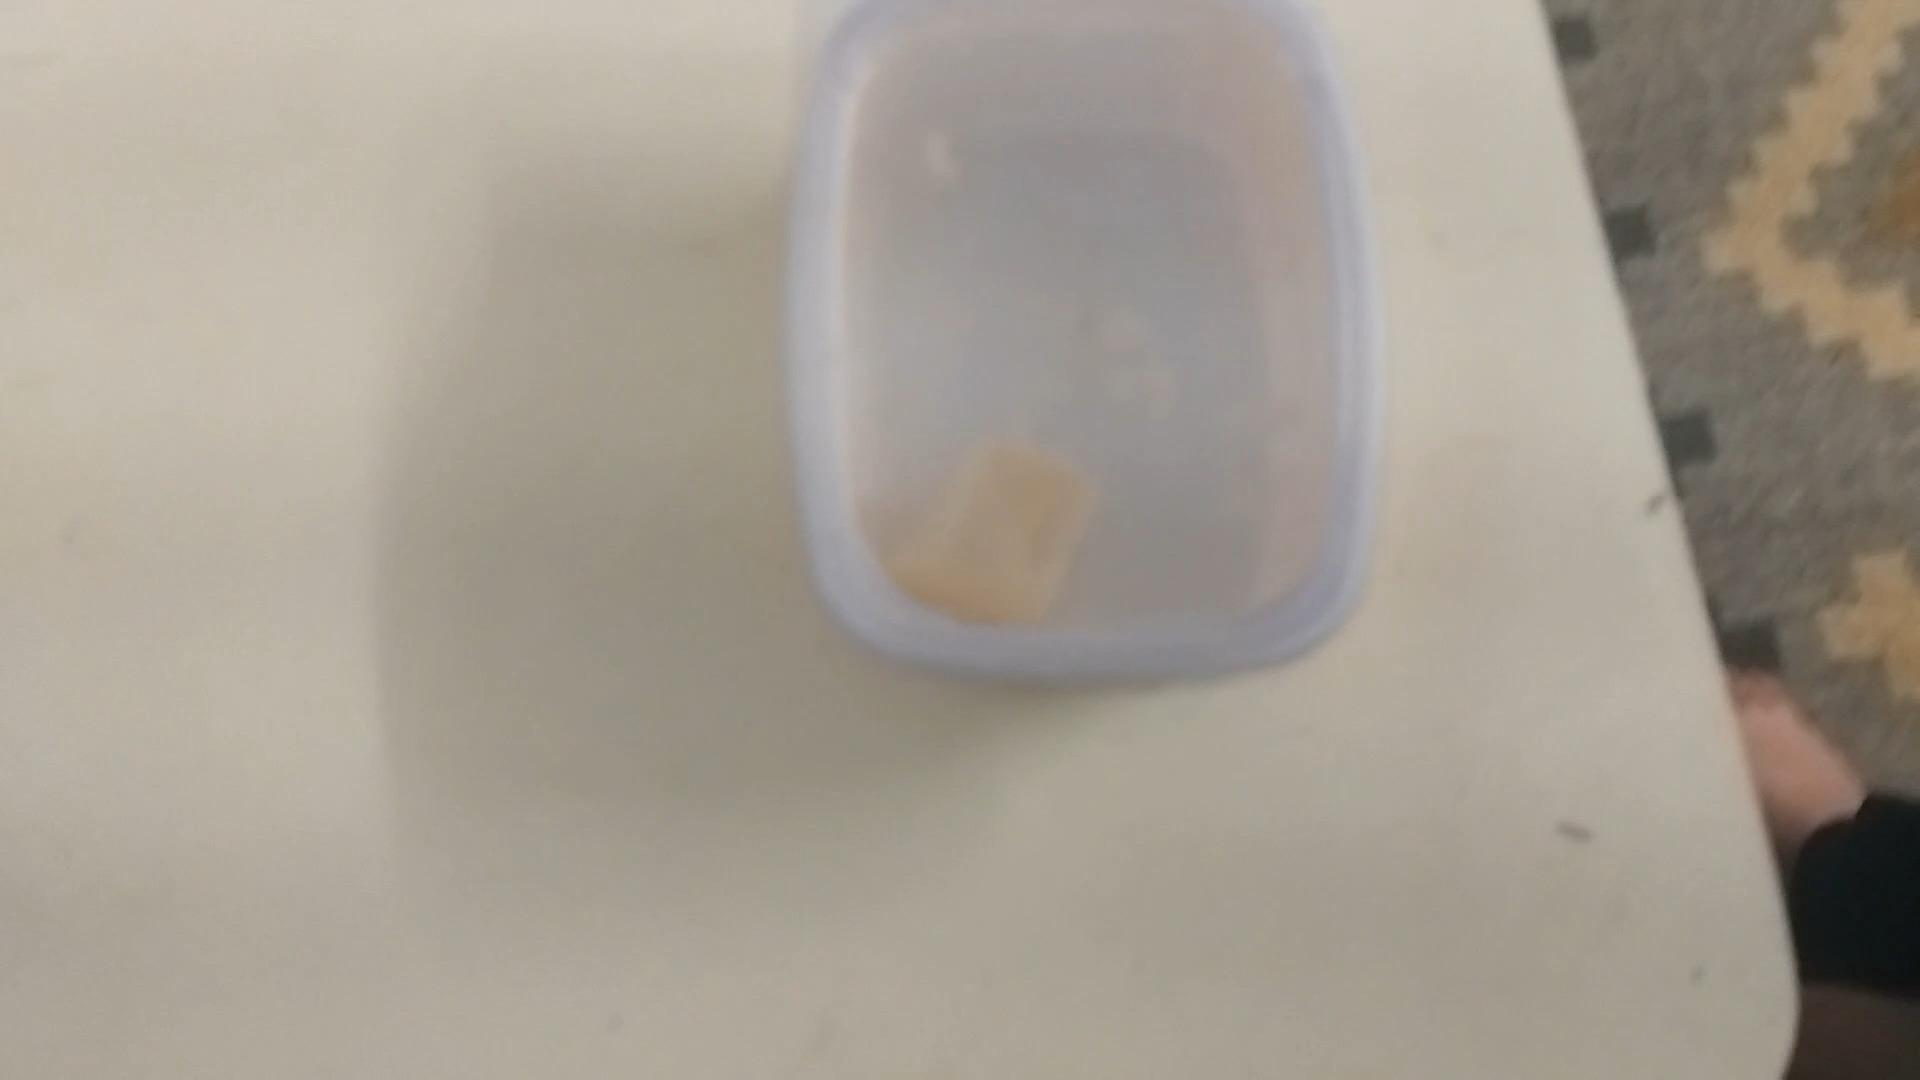butter: (785, 4, 1360, 690)
